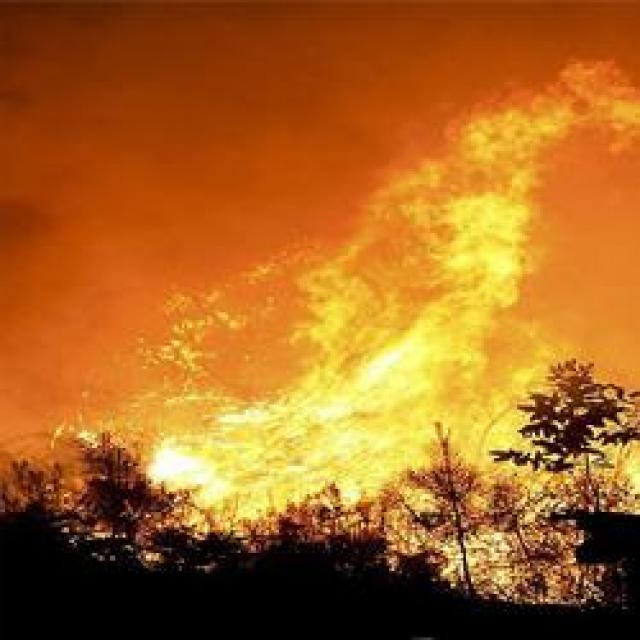fire: (150, 441, 201, 491), (361, 359, 414, 397), (175, 461, 225, 495)
smoke: (0, 212, 138, 402), (0, 55, 85, 235)
